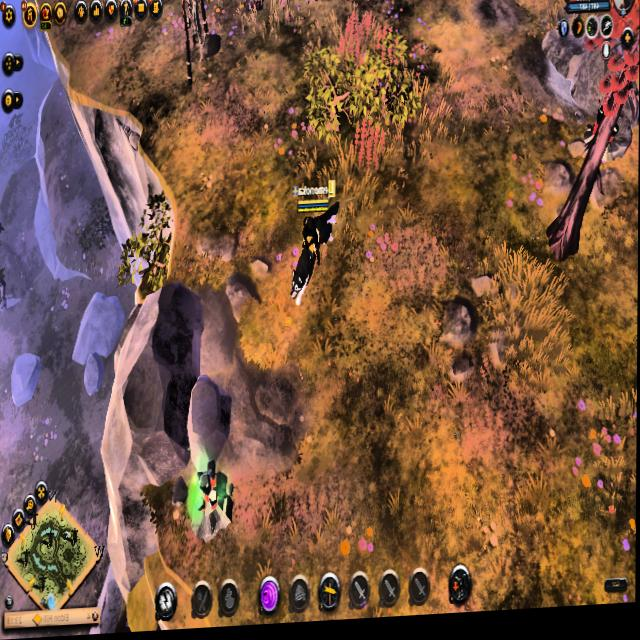ore tier 5: (188, 460, 234, 550)
